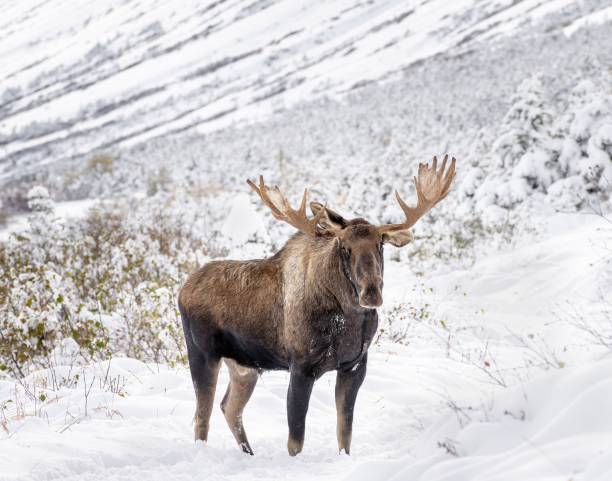moose: (177, 155, 458, 456)
